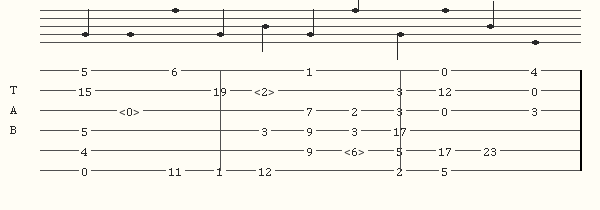0: (81, 164, 92, 176), (441, 64, 452, 76), (441, 104, 452, 116), (531, 84, 542, 96)
1: (216, 164, 227, 176), (306, 64, 317, 76)
11: (168, 164, 186, 176)
12: (258, 164, 276, 176), (438, 84, 456, 96)
15: (78, 84, 96, 96)
17: (393, 124, 411, 136), (438, 144, 456, 156)
19: (213, 84, 231, 96)
2: (351, 104, 362, 116), (396, 164, 407, 176)
23: (483, 144, 501, 156)
3: (261, 124, 272, 136), (351, 124, 362, 136), (396, 84, 407, 96), (396, 104, 407, 116), (531, 104, 542, 116)
4: (81, 144, 92, 156), (531, 64, 542, 76)
5: (81, 124, 92, 136), (81, 64, 92, 76), (396, 144, 407, 156), (441, 164, 452, 176)
6: (171, 64, 182, 76)
7: (306, 104, 317, 116)
9: (306, 144, 317, 156), (306, 124, 317, 136)
harmonic: (119, 104, 144, 116), (254, 84, 279, 96), (344, 144, 369, 156)
